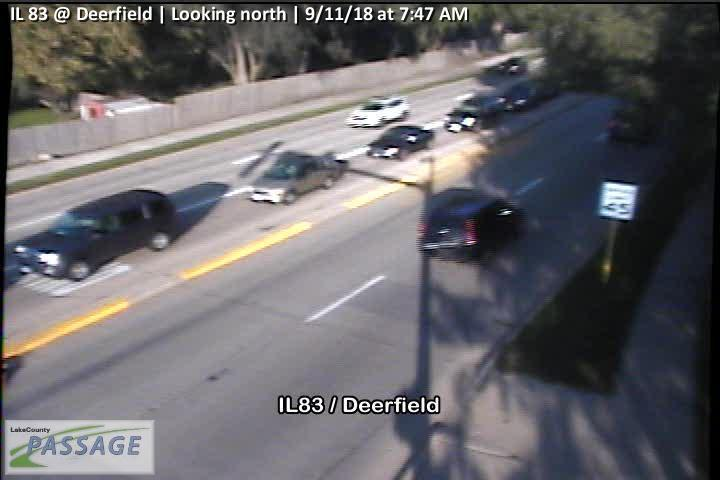SUV: (35, 187, 176, 282), (414, 188, 527, 265), (344, 95, 411, 129)
Sedan: (249, 152, 341, 206), (366, 125, 435, 162)
